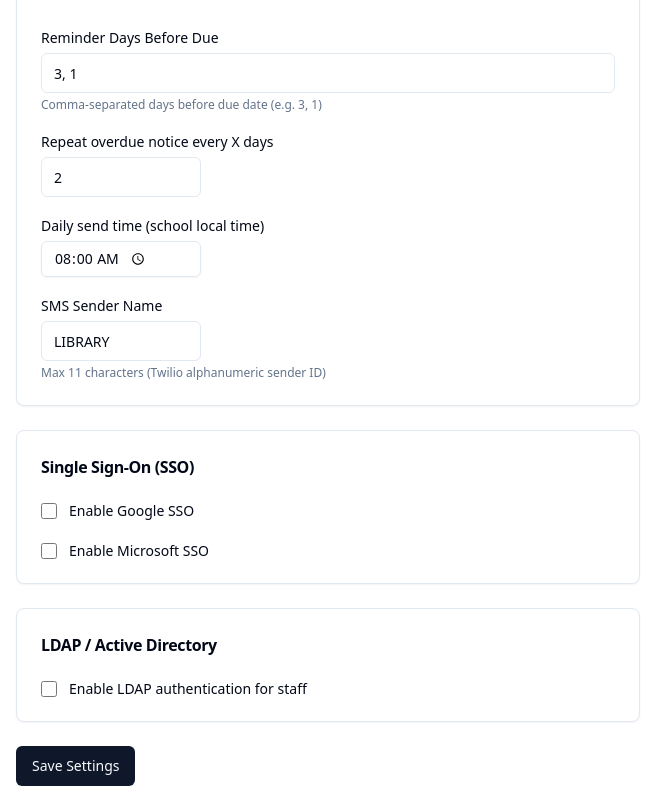
Scenario: SchoolSettingsPage › shows error message on save failure
(page scrolled)
Click the button "Save Settings". click: (76, 766)
box: [16,746,136,786]
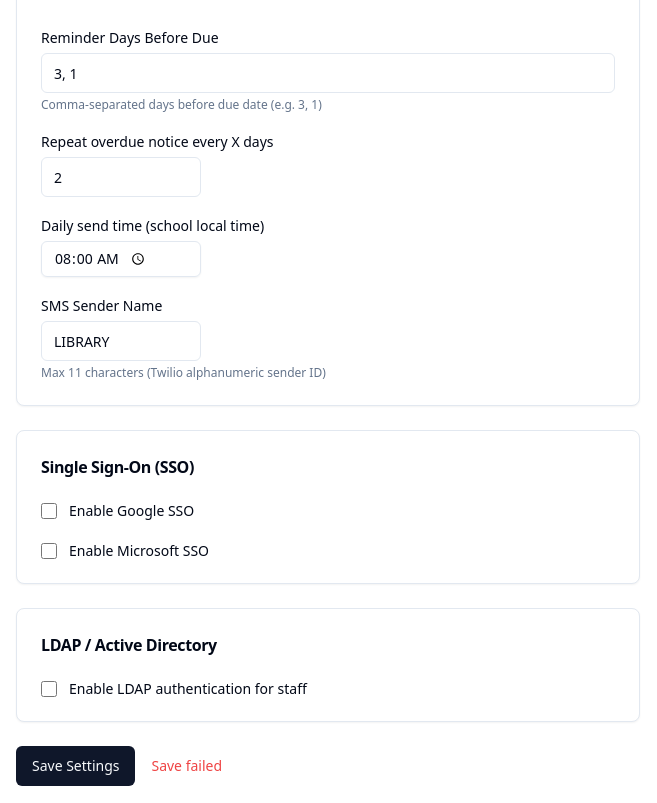
Check: the text "Save failed" is shown, box [152,756,222,776]
